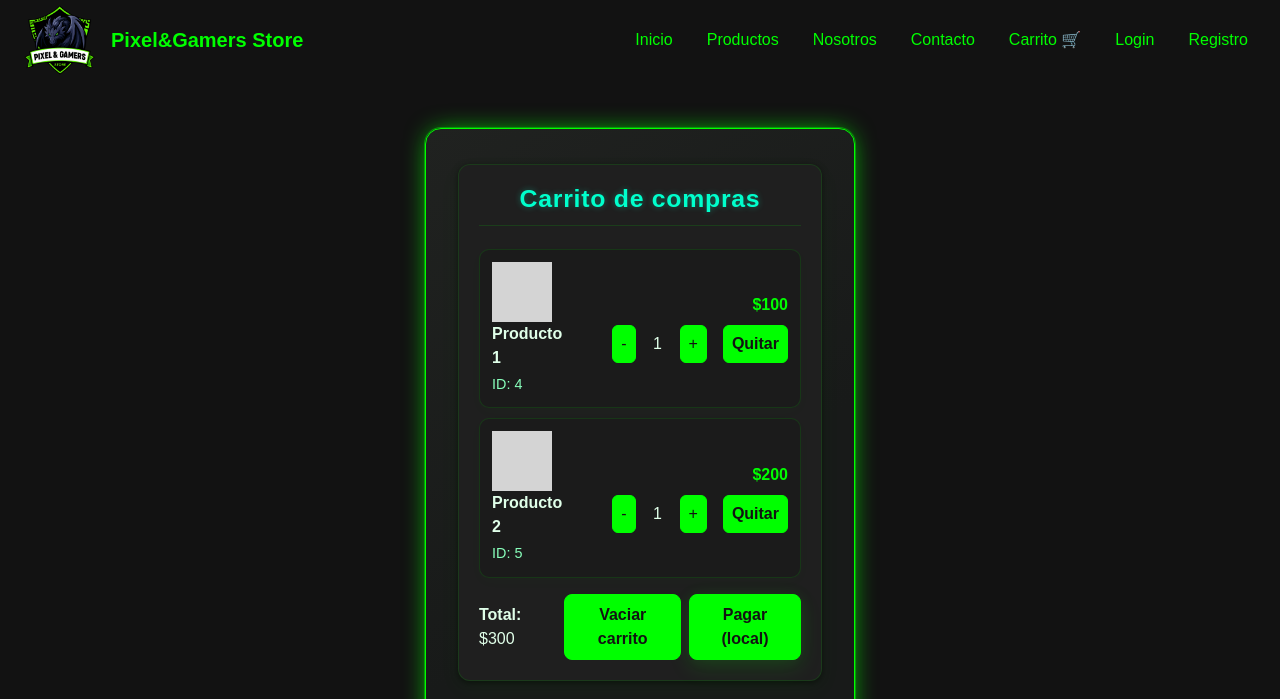
Test: Carrito › vacía el carrito al hacer clic en vaciar carrito
Expected: the text "Producto 1" is shown, [492,322,568,370]
Expected: the text "Producto 2" is shown, [492,491,568,539]
// Hacer clic en vaciar carrito
Click the button "Vaciar carrito" at (623,627), box [564,594,681,660]
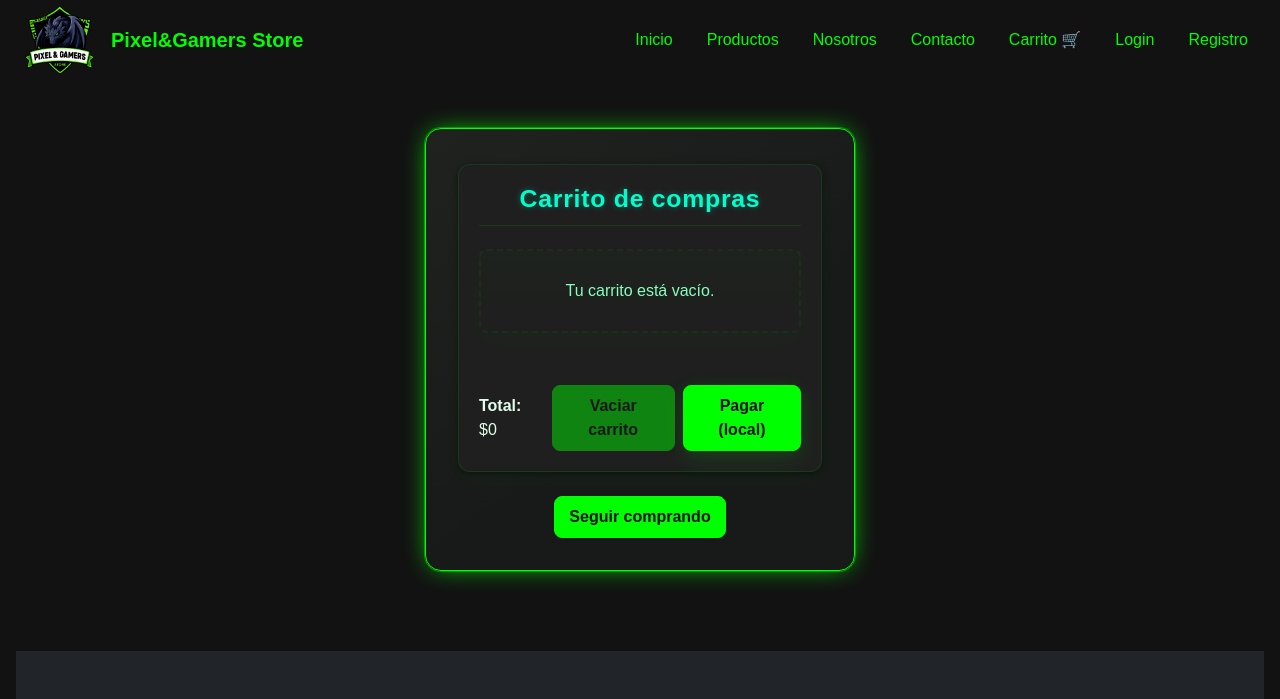
Expected: the text "Tu carrito está vacío." is shown, [479,249,801,333]
